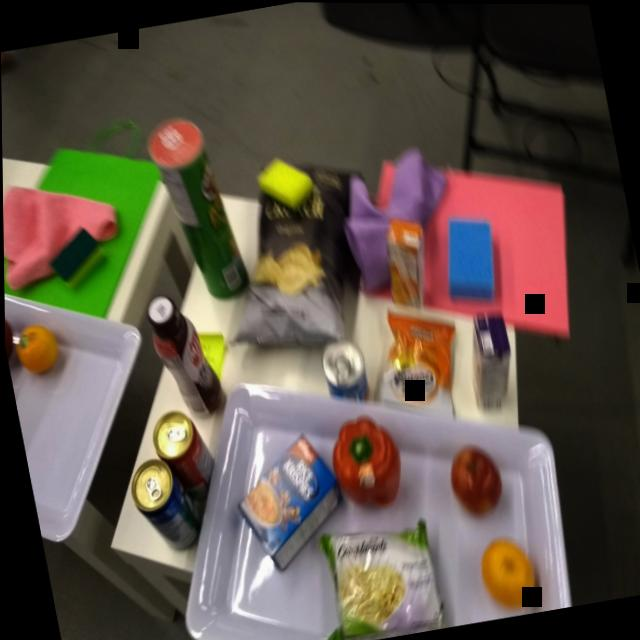apple: (441, 436, 507, 517)
cereal: (220, 423, 353, 577)
chocolate_drink: (139, 284, 229, 431)
coke: (144, 403, 221, 510)
crackers: (355, 298, 471, 421)
grape_juice: (453, 299, 525, 420)
noodles: (302, 513, 450, 640)
orange: (472, 529, 540, 611), (9, 319, 62, 379)
orange_juice: (374, 213, 439, 314)
paprika: (320, 410, 408, 516)
potato_chips: (194, 155, 382, 368)
pringles: (140, 105, 256, 308)
scrubby: (248, 148, 320, 221), (40, 223, 109, 291)
sponge_opl: (432, 208, 506, 308)
sprite: (121, 451, 205, 559)
